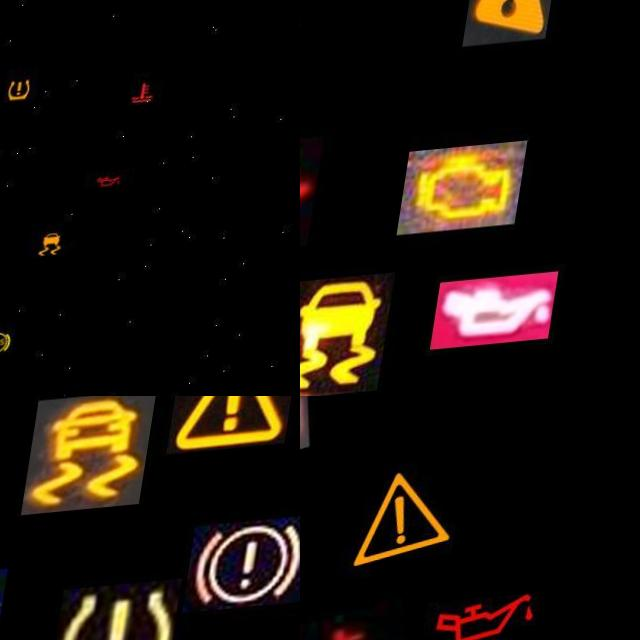Central Warning lamp: (336, 448, 491, 597), (170, 396, 300, 464), (471, 0, 568, 53)
Engine cooling system: (300, 605, 437, 640)
